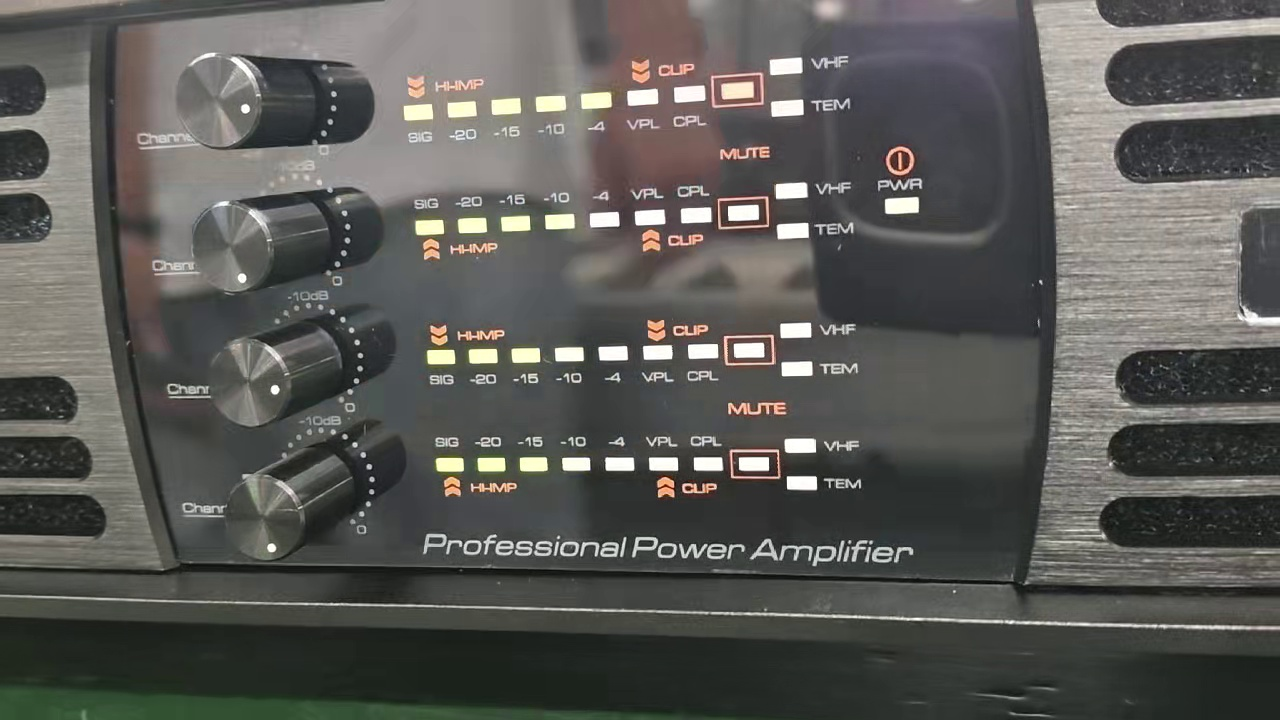FP_CPL: (668, 79, 711, 136), (684, 428, 725, 481), (683, 339, 722, 393), (677, 179, 716, 230)
FP_PWR: (874, 177, 926, 220)
FP_PWR_area: (867, 135, 930, 229)
FP_SIG_area: (403, 49, 854, 146), (404, 175, 858, 261), (433, 426, 870, 507), (429, 313, 862, 393)
FP_VPL: (622, 84, 665, 137), (628, 180, 672, 230), (638, 340, 677, 390), (645, 429, 684, 478)
